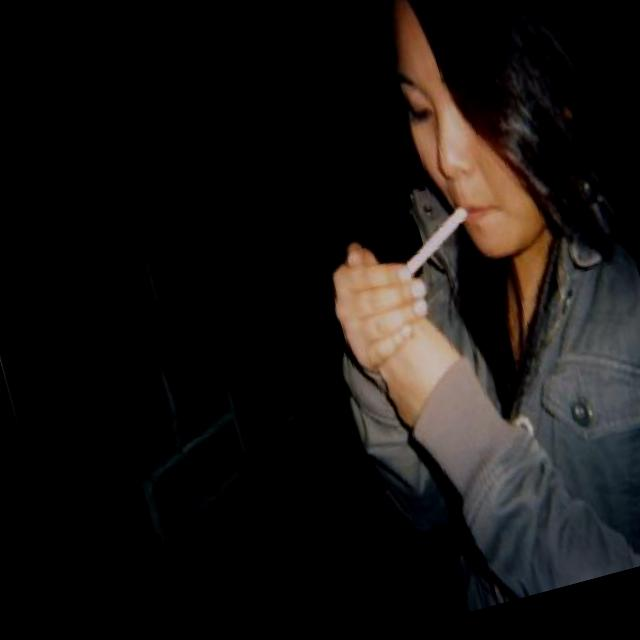cigarette: (384, 199, 486, 288)
